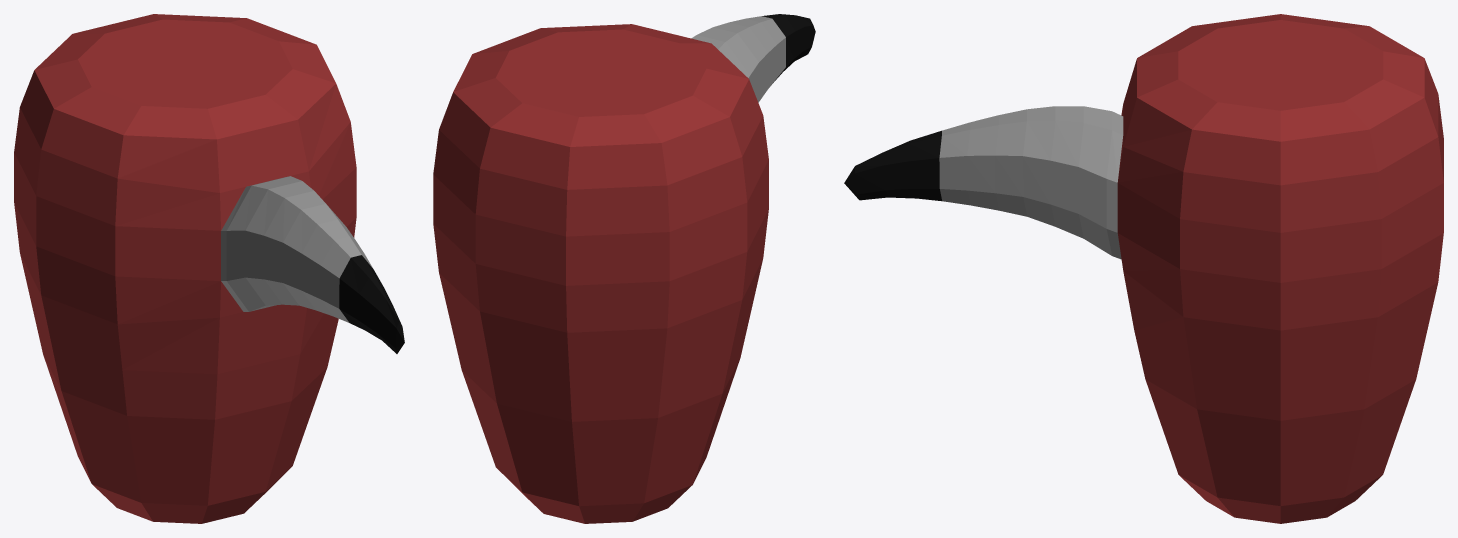
The model's file is carneDodo.fbx.
3 renders of one model, left to right at view 1: azimuth 30°, elevation 25°; view 2: azimuth 150°, elevation 25°; view 3: azimuth 270°, elevation 25°, orthographic. The views are drawn at different scales.
Visible parts, largest first — view 1: Cylinder002; view 2: Cylinder002; view 3: Cylinder002.
Part boxes in pixels (box(x1,y1,x2,y2)): Cylinder002: box(14, 14, 404, 523); Cylinder002: box(433, 14, 815, 523); Cylinder002: box(844, 14, 1443, 523).
Bounding box in the file's own units: 0.621 × 0.85 × 1.09.
